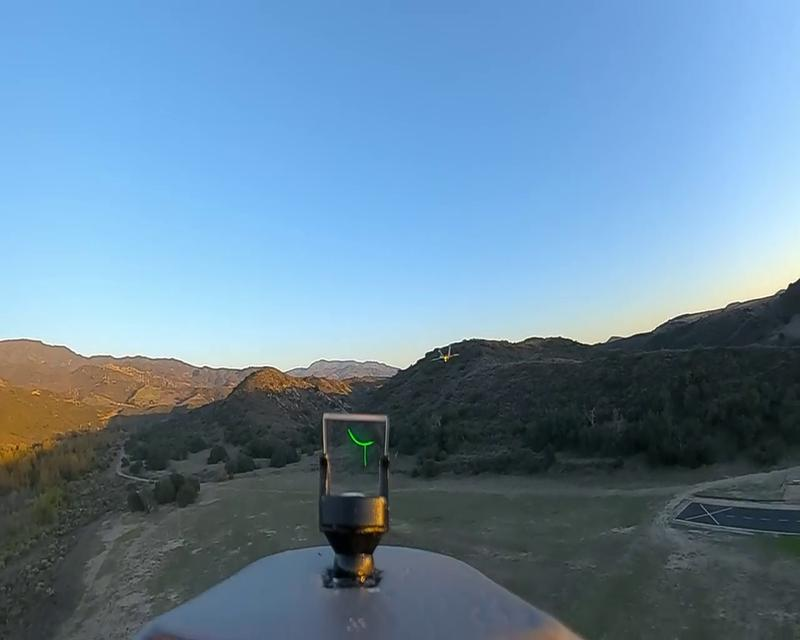UAV: (431, 347, 460, 365)
